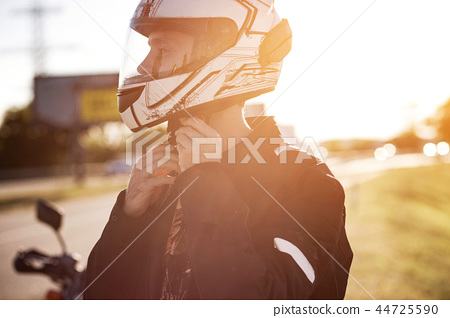helmet: (123, 6, 281, 93)
